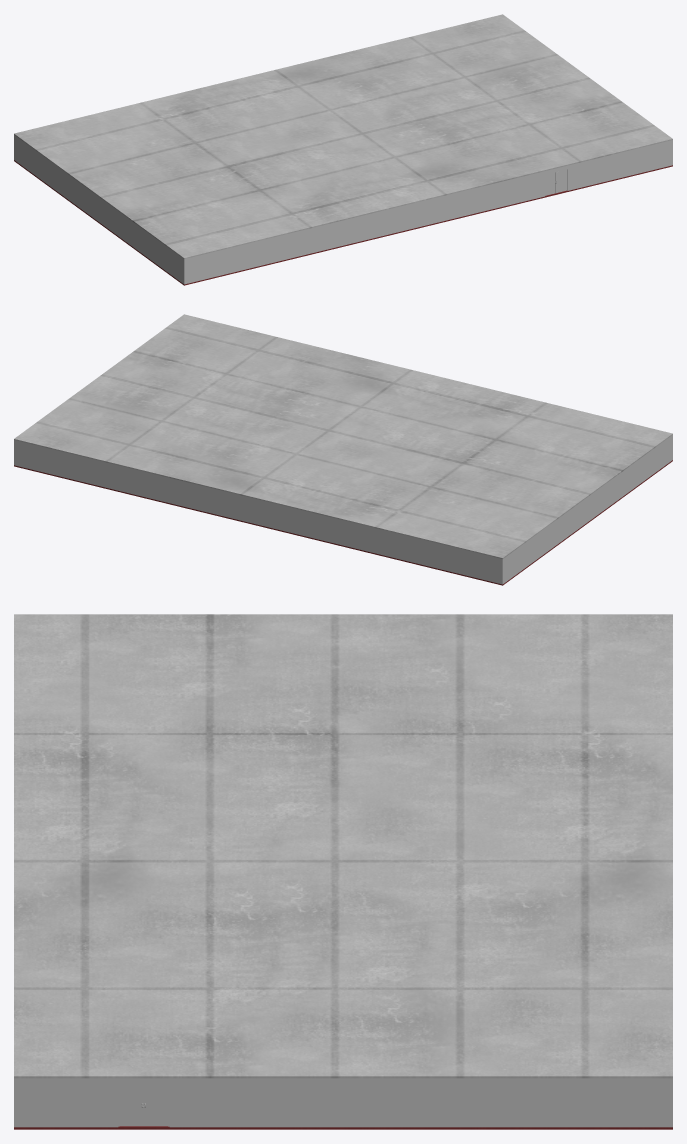
Rendered from room_adit.fbx.
The picture shows the model from 3 angles, top to bottom: view 1: azimuth 30°, elevation 25°; view 2: azimuth 150°, elevation 25°; view 3: azimuth 270°, elevation 25°; orthographic projection. The views are drawn at different scales.
Parts seen in each view (by area): view 1: roof, walls, floor; view 2: roof, walls, floor; view 3: roof, walls, floor, Door.017, Door.018.
Boxes of the visible parts, x1,y1,x2,y2 form: roof: (14, 14, 672, 259); walls: (14, 135, 672, 284); floor: (14, 160, 672, 285); roof: (14, 314, 672, 559); walls: (14, 435, 672, 584); floor: (14, 460, 672, 585); roof: (14, 614, 672, 1078); walls: (14, 1078, 672, 1127); floor: (14, 1126, 672, 1129); Door.017: (119, 1086, 143, 1126); Door.018: (144, 1086, 167, 1126).
Bounding box in the file's own units: 5961 × 321 × 3595.
